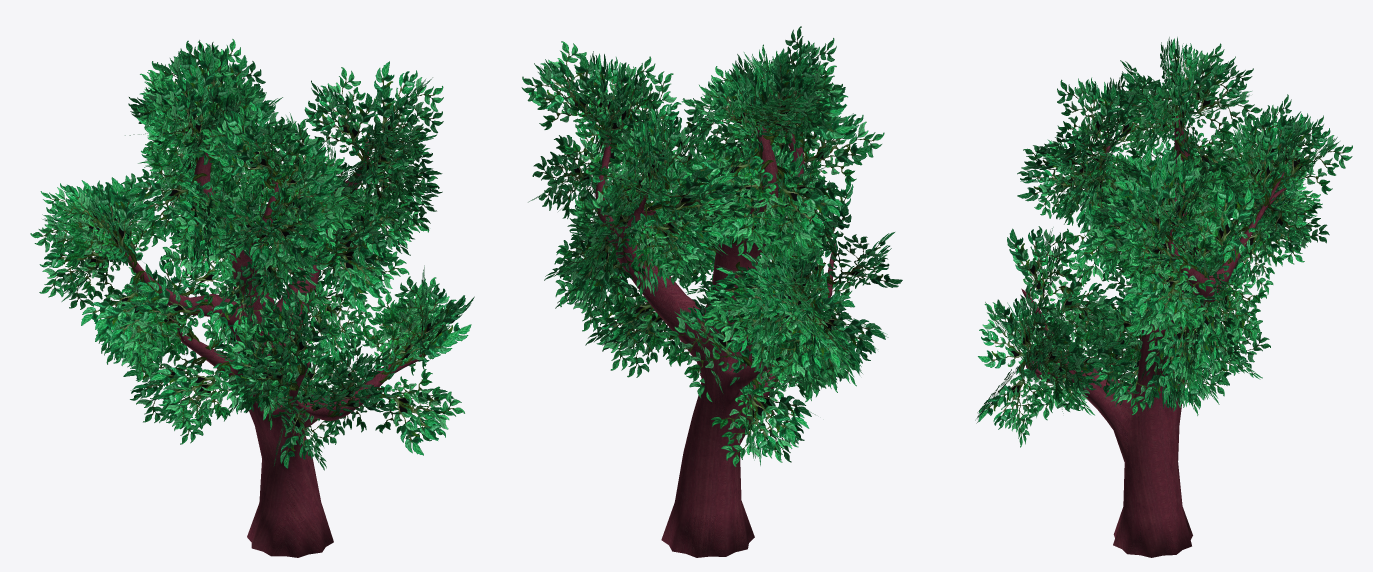
Rendered from nightwing tree.FBX.
3 renders of one model, left to right at view 1: azimuth 30°, elevation 25°; view 2: azimuth 150°, elevation 25°; view 3: azimuth 270°, elevation 25°, orthographic. The views are drawn at different scales.
Parts seen in each view (by area): view 1: tree010; view 2: tree010; view 3: tree010.
Part boxes in pixels (left/top/right/bottom): tree010: left=30, top=39, right=474, bottom=557; tree010: left=521, top=26, right=902, bottom=557; tree010: left=975, top=37, right=1352, bottom=557.
Size of the model in its own units: 16.03 by 20.21 by 15.57.
2 materials, 2 textured.
